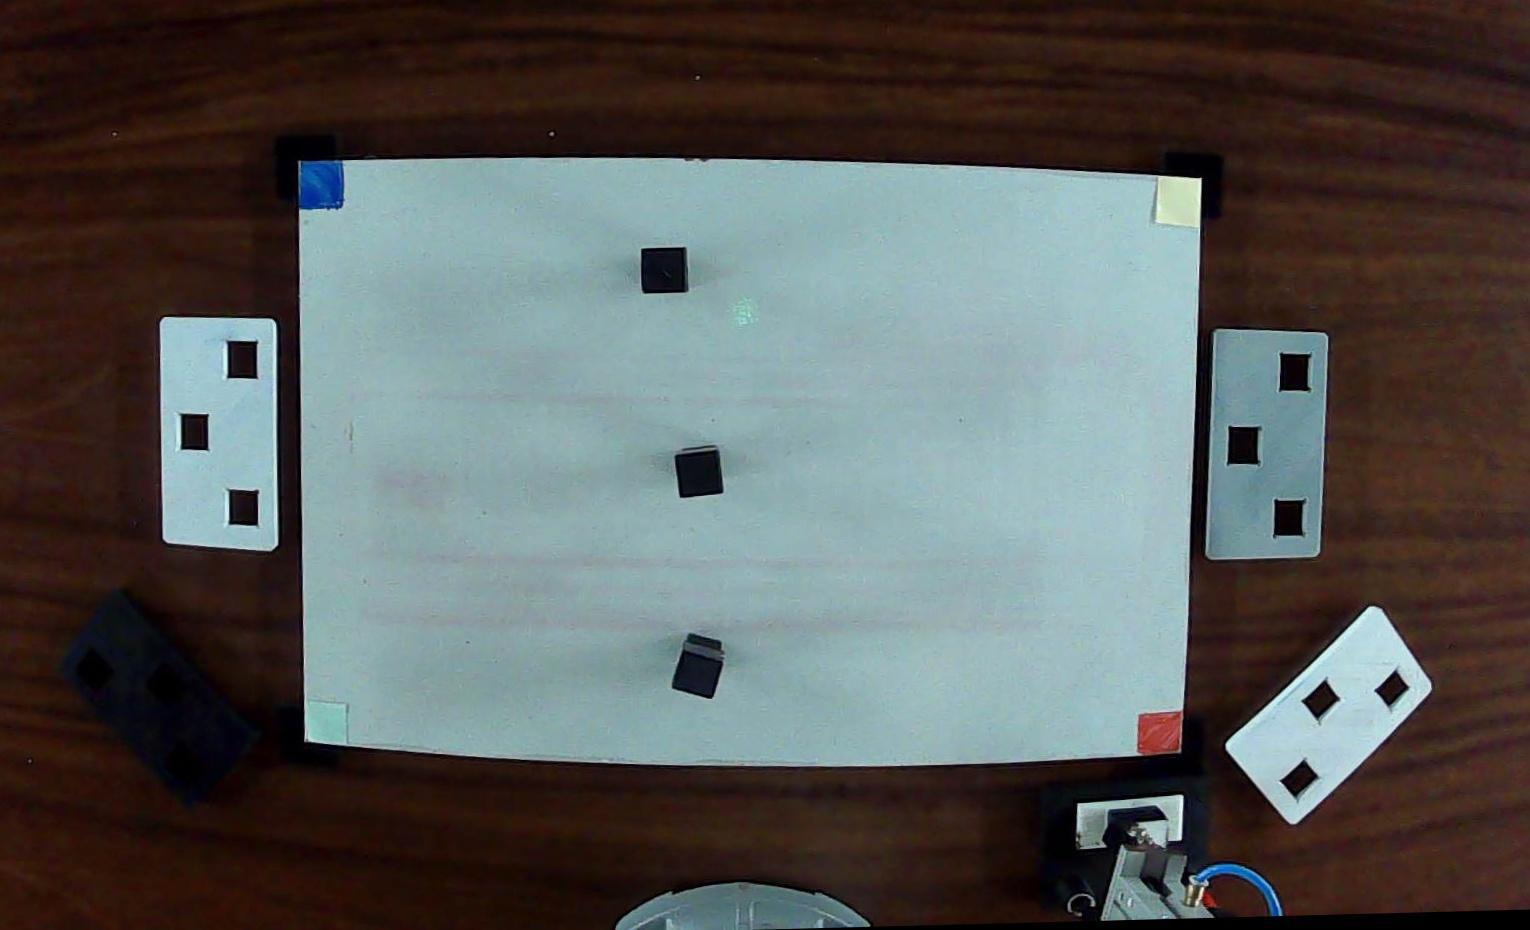peca_preta: (672, 650, 725, 699), (675, 450, 723, 496), (642, 248, 687, 293)
